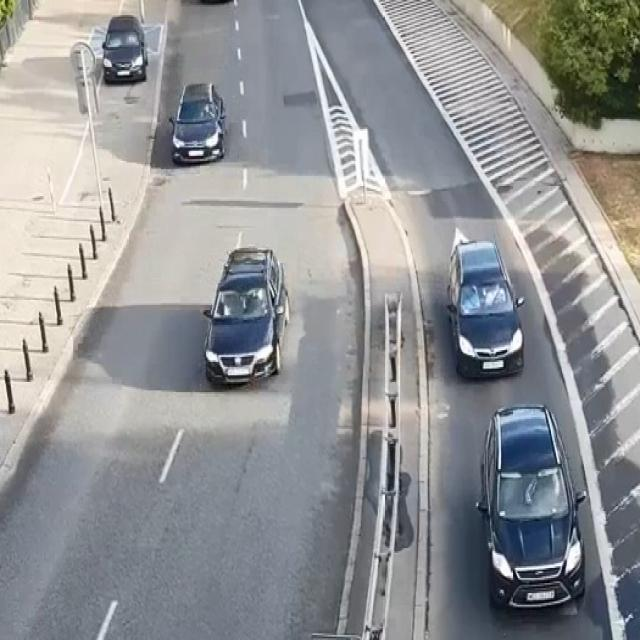car: (476, 405, 585, 608), (205, 249, 289, 383), (448, 242, 524, 378), (170, 84, 225, 164), (102, 15, 146, 83)
